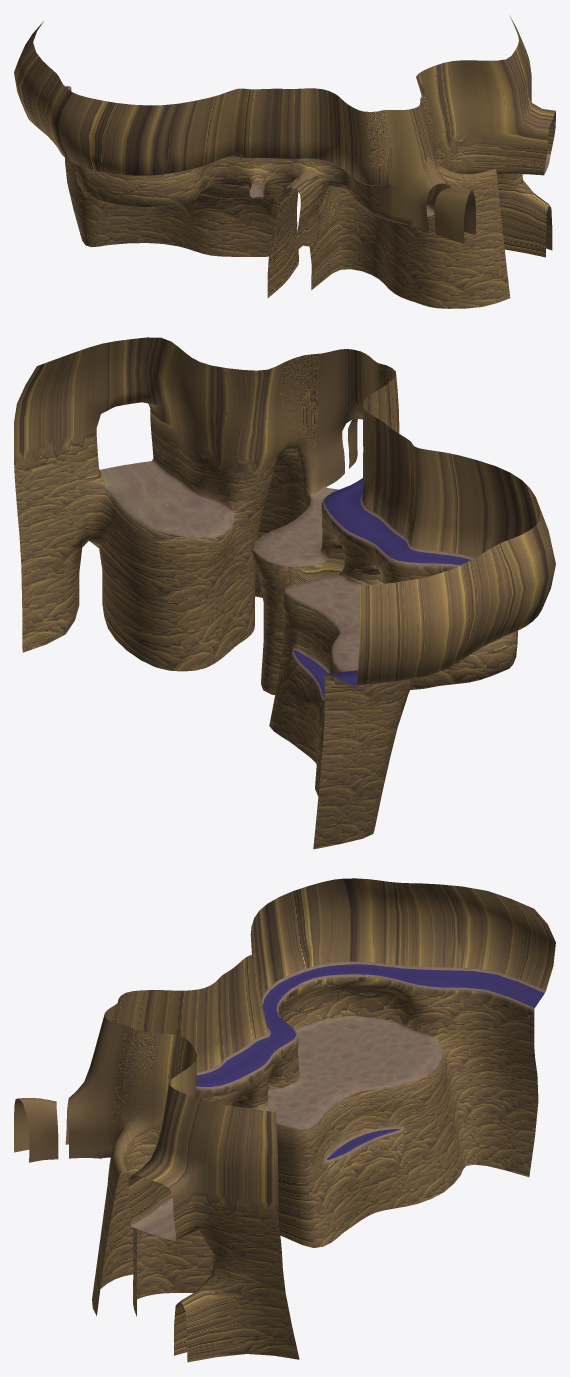
The model's file is Hub.FBX.
3 views of the same model, one above another, from view 1: azimuth 30°, elevation 25°; view 2: azimuth 150°, elevation 25°; view 3: azimuth 270°, elevation 25° (orthographic). The views are drawn at different scales.
Parts seen in each view (by area): view 1: Hub; view 2: Hub; view 3: Hub.
Part boxes in pixels (<box>): Hub: <box>14,15,555,308</box>; Hub: <box>14,337,555,849</box>; Hub: <box>14,878,555,1362</box>.
Size of the model in its own units: 91.56 by 42.12 by 83.76.
